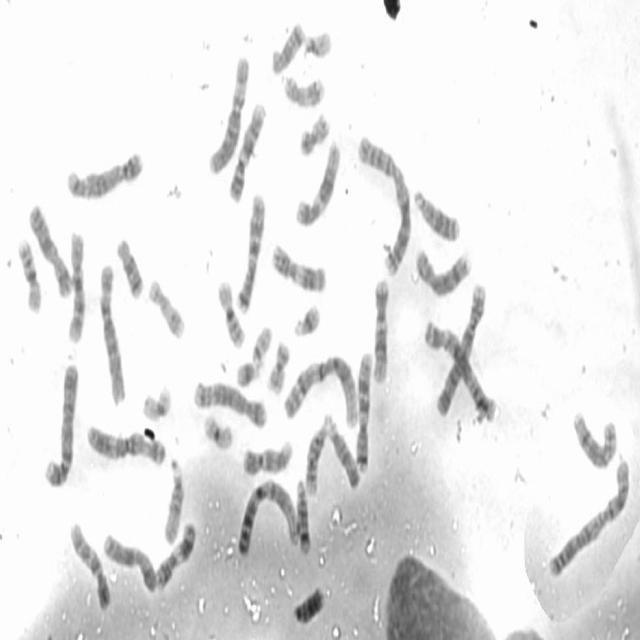A1: (281, 351, 358, 428), (235, 475, 300, 559)
A2: (545, 453, 632, 581), (354, 128, 412, 278)
A3: (421, 316, 498, 424), (84, 420, 167, 468)
B4: (433, 276, 488, 421), (42, 357, 80, 489)
B5: (64, 146, 146, 201), (190, 374, 269, 429)
C10: (67, 515, 112, 612), (65, 224, 87, 345)
C11: (269, 238, 328, 296), (154, 516, 198, 592)
C12: (293, 136, 342, 229), (369, 272, 391, 386)
C6: (206, 48, 250, 177), (96, 257, 128, 407)
C7: (233, 188, 266, 315), (354, 346, 374, 475)
C8: (412, 240, 473, 298), (569, 404, 619, 470)
C9: (226, 95, 268, 205), (239, 434, 294, 477)
D13: (410, 183, 462, 244), (290, 580, 327, 626)
D14: (302, 411, 332, 497), (294, 474, 312, 556)
D15: (323, 410, 361, 492), (161, 451, 185, 547)
E16: (214, 274, 247, 349), (15, 232, 42, 314)
E17: (146, 274, 187, 341), (280, 71, 326, 109)
E18: (269, 16, 306, 76), (114, 233, 145, 300)
F19: (201, 407, 235, 452), (140, 380, 172, 422)
F20: (264, 334, 292, 396), (297, 107, 331, 158)
G21: (290, 299, 322, 340), (233, 356, 262, 390)
G22: (249, 320, 273, 368), (302, 26, 334, 60)
X: (26, 198, 73, 299), (101, 528, 157, 595)
